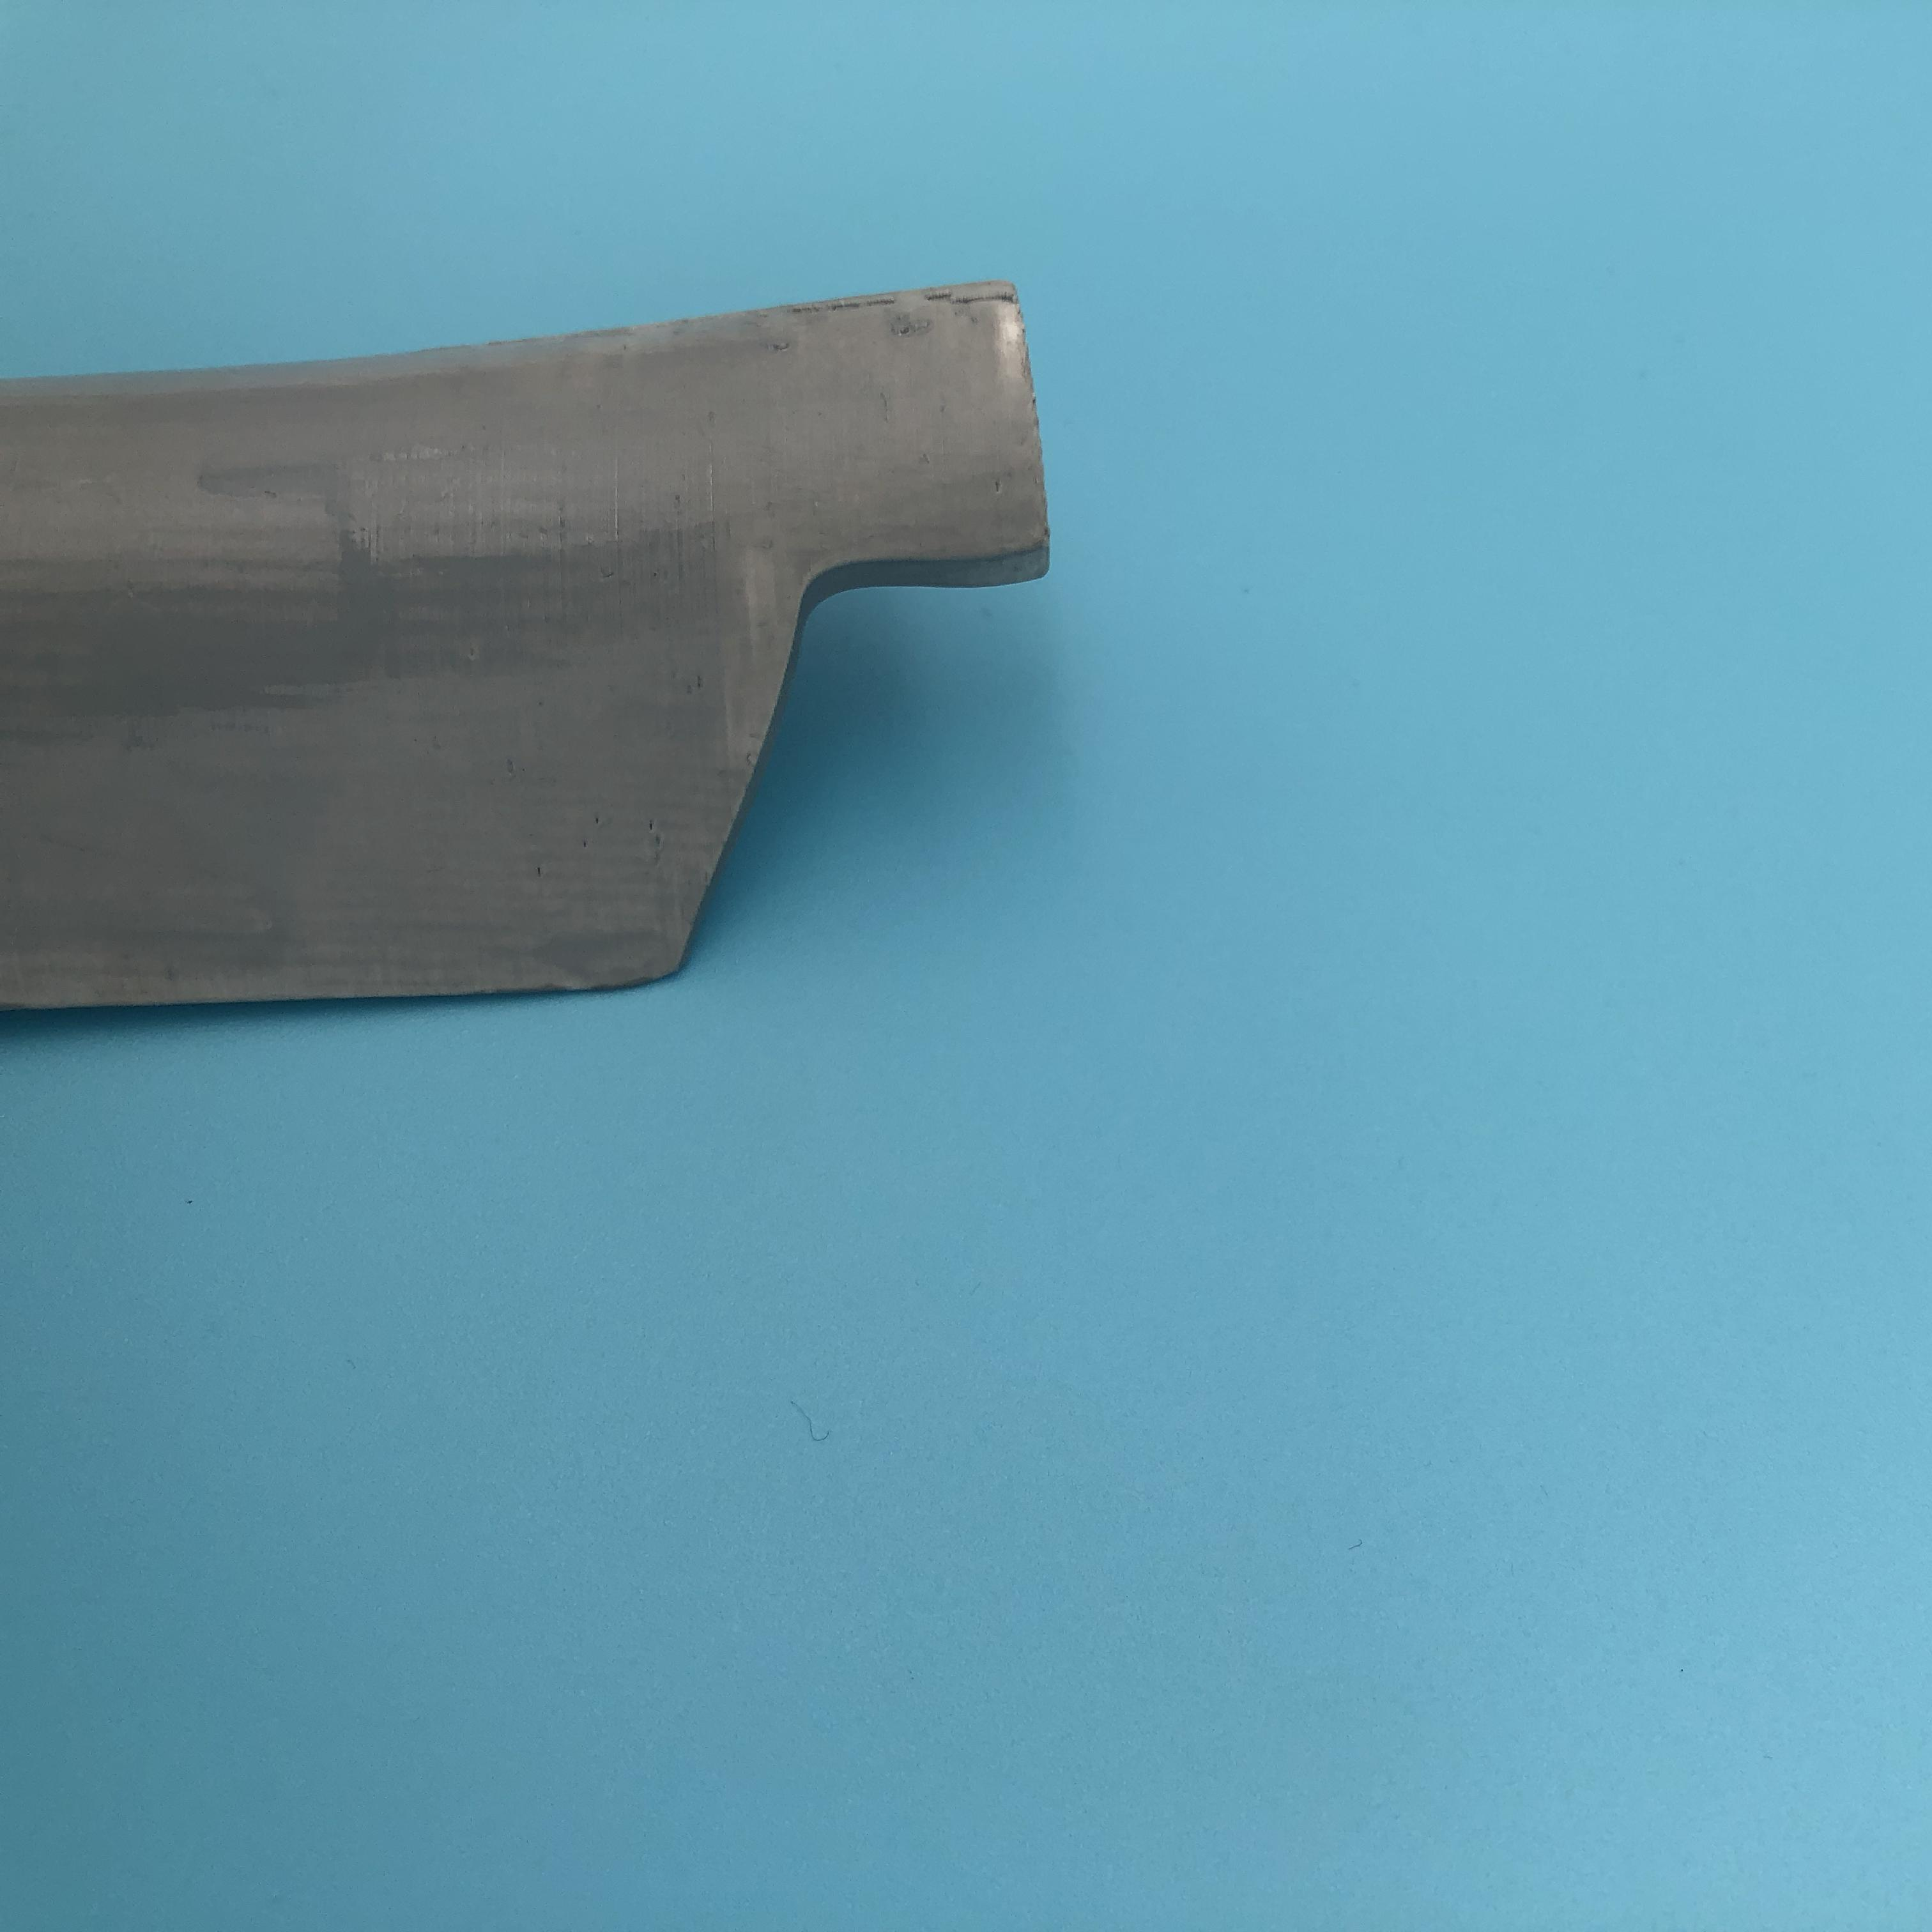fracture: (711, 515, 1035, 830)
